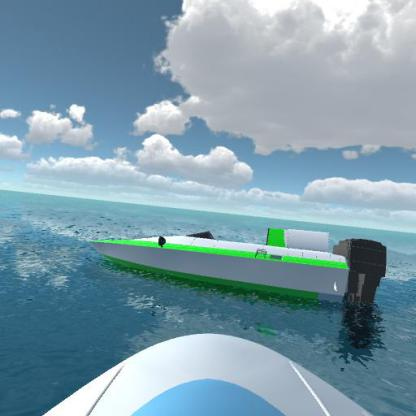usv0: (82, 212, 392, 319)
